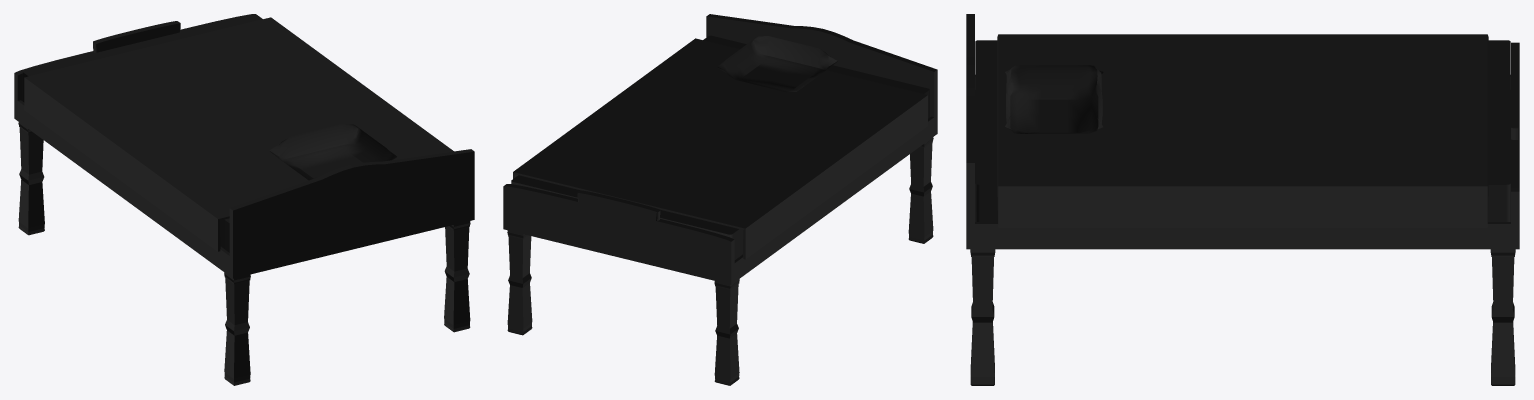
Rendered from bed.obj.
3 renders of one model, left to right at view 1: azimuth 30°, elevation 25°; view 2: azimuth 150°, elevation 25°; view 3: azimuth 270°, elevation 25°, orthographic. The views are drawn at different scales.
Parts seen in each view (by area): view 1: obj3, obj2, obj4, obj1; view 2: obj3, obj2, obj4, obj1; view 3: obj3, obj2, obj1, obj4.
Part boxes in pixels (box(x1,y1,x2,y2)): obj3: box(24, 17, 453, 251); obj2: box(14, 14, 474, 385); obj4: box(269, 124, 396, 180); obj1: box(22, 14, 262, 252); obj3: box(513, 38, 927, 259); obj2: box(503, 14, 937, 385); obj4: box(717, 36, 837, 92); obj1: box(511, 35, 929, 259); obj3: box(997, 34, 1488, 227); obj2: box(966, 14, 1519, 385); obj1: box(975, 40, 1510, 221); obj4: box(1005, 65, 1103, 133).
Size of the model in its own units: 1.62 by 1.2 by 2.49.
